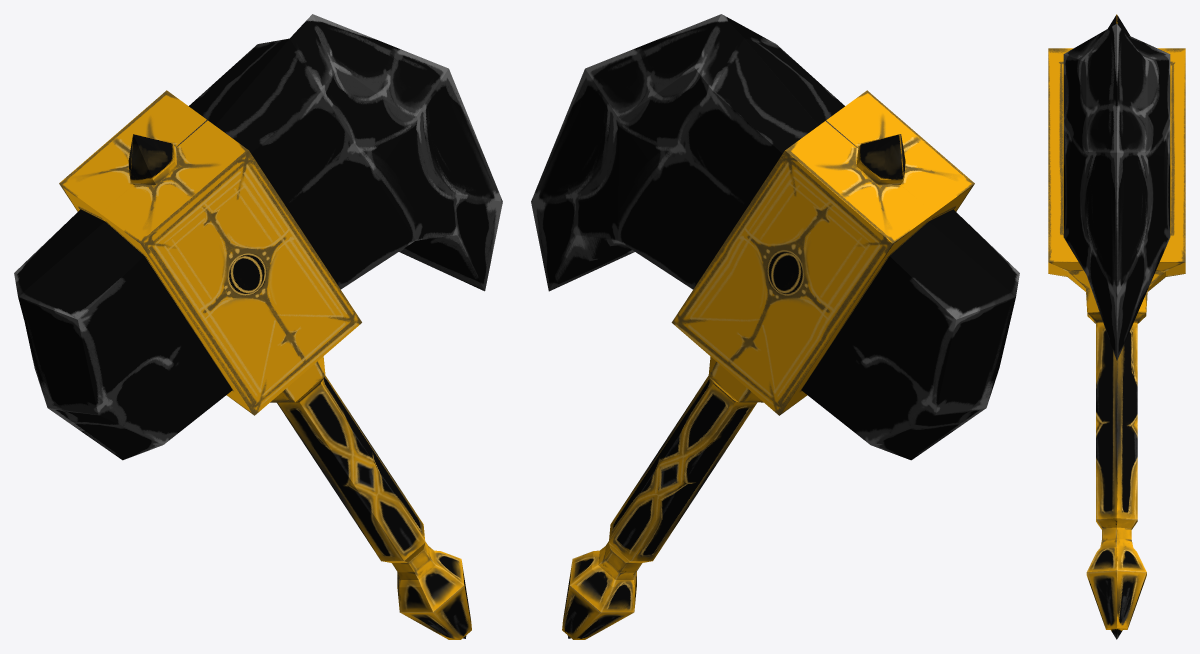
Rendered from ow-battleAxev1.glb.
3 views of the same model, side by side, from view 1: azimuth 30°, elevation 25°; view 2: azimuth 150°, elevation 25°; view 3: azimuth 270°, elevation 25° (orthographic). The views are drawn at different scales.
Parts seen in each view (by area): view 1: Battle Axe; view 2: Battle Axe; view 3: Battle Axe.
Part boxes in pixels (x1,y1,x2,y2): Battle Axe: (14, 14, 502, 639); Battle Axe: (531, 14, 1019, 639); Battle Axe: (1048, 14, 1185, 639).
Size of the model in its own units: 0.8213 by 1.07 by 0.2412.
1 material, 1 textured.
